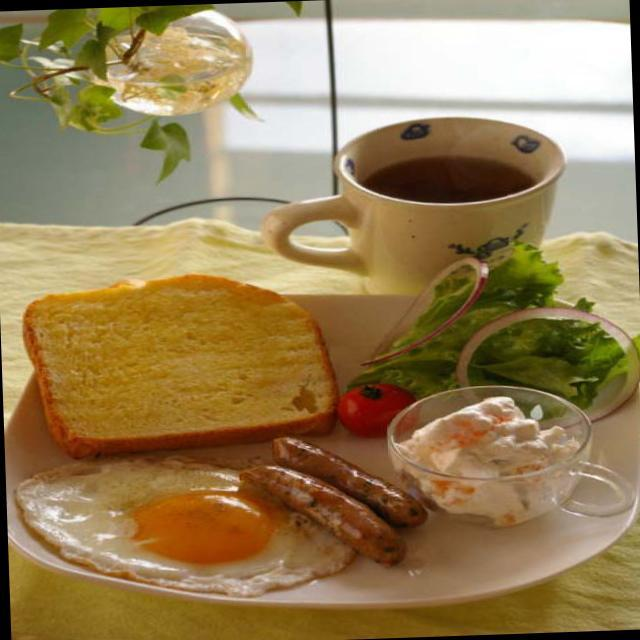Bread: (36, 276, 320, 444)
Egg: (21, 458, 314, 592)
Sausage: (250, 437, 410, 573)
